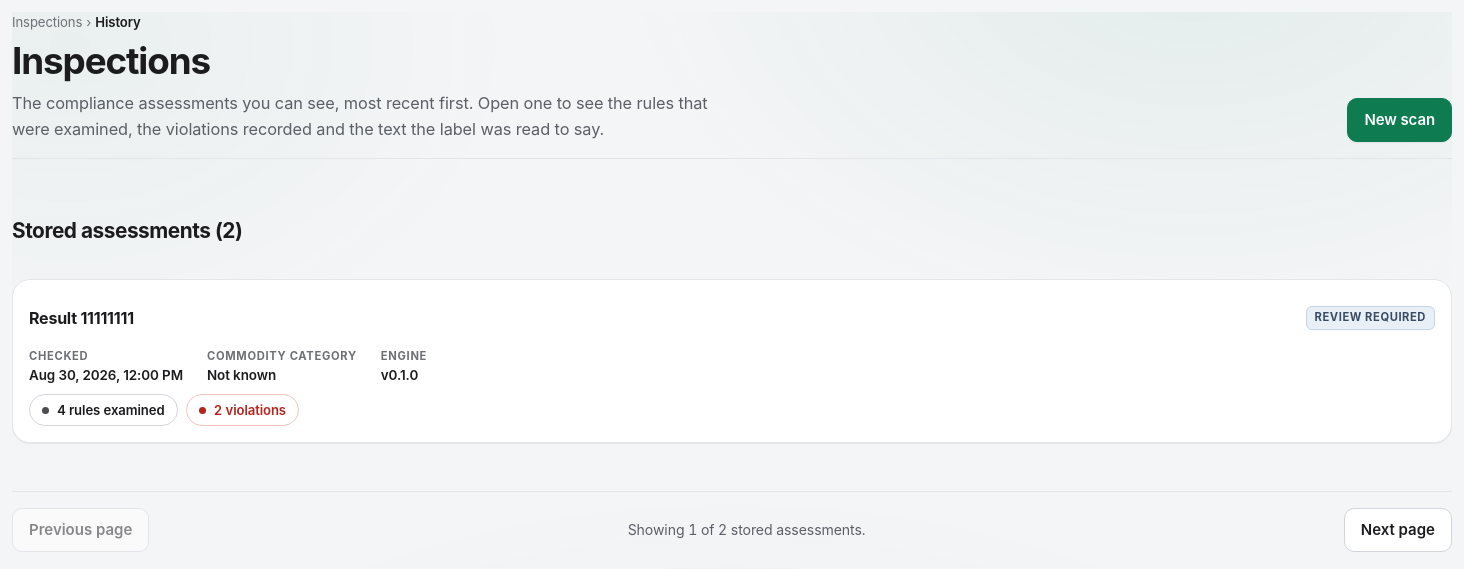
Test: pagination › follows the API next URL rather than building a page number
Step 1. Click the button "Next page" → (1398, 530), box [1344, 508, 1452, 552]
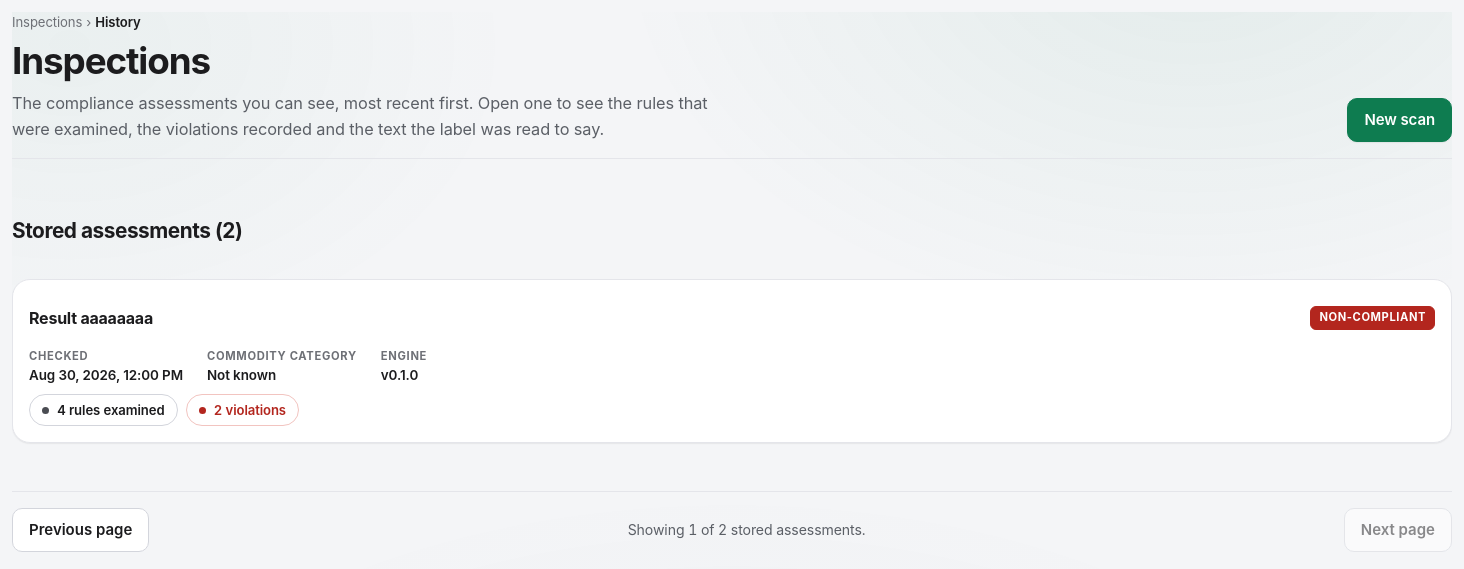
expect the link "Result aaaaaaaa" is shown: met, box [29, 308, 153, 328]
